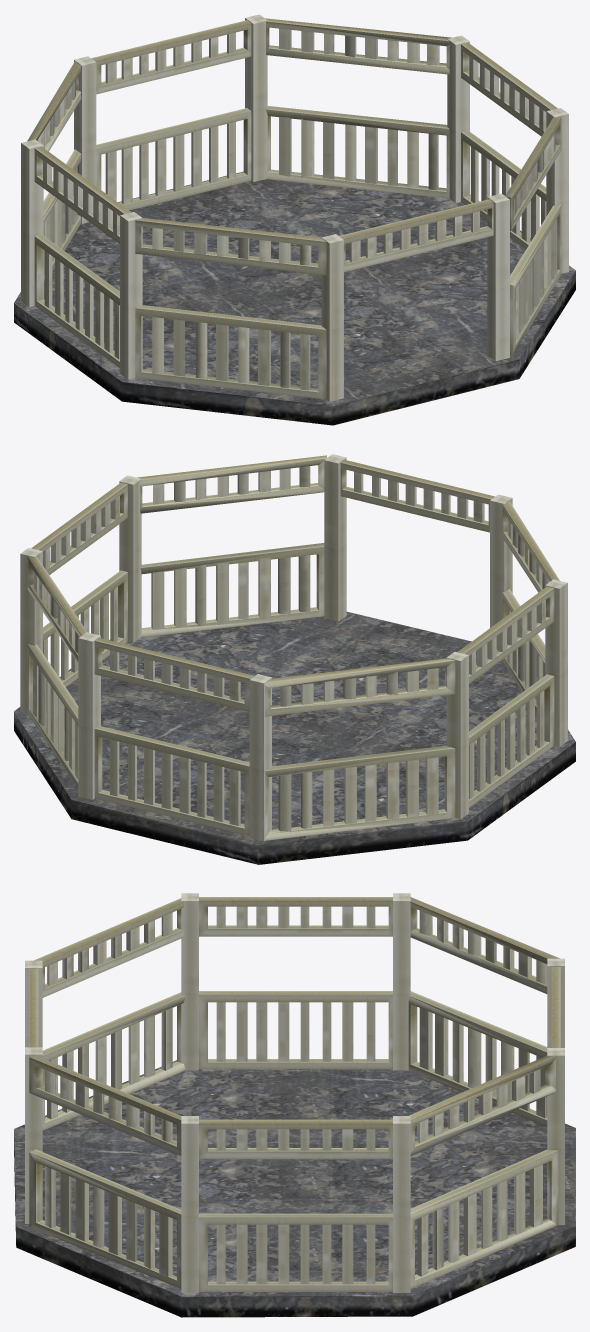
The model's file is gazebo_b.obj.
The picture shows the model from 3 angles, top to bottom: view 1: azimuth 30°, elevation 25°; view 2: azimuth 150°, elevation 25°; view 3: azimuth 270°, elevation 25°; orthographic projection. The views are drawn at different scales.
Visible parts, largest first — view 1: Group; view 2: Group; view 3: Group.
Part boxes in pixels (bbox=[...]): Group: bbox=[14, 14, 575, 425]; Group: bbox=[14, 454, 575, 864]; Group: bbox=[14, 893, 575, 1317].
Size of the model in its own units: 171 by 64.04 by 171.
1 material, 1 textured.
